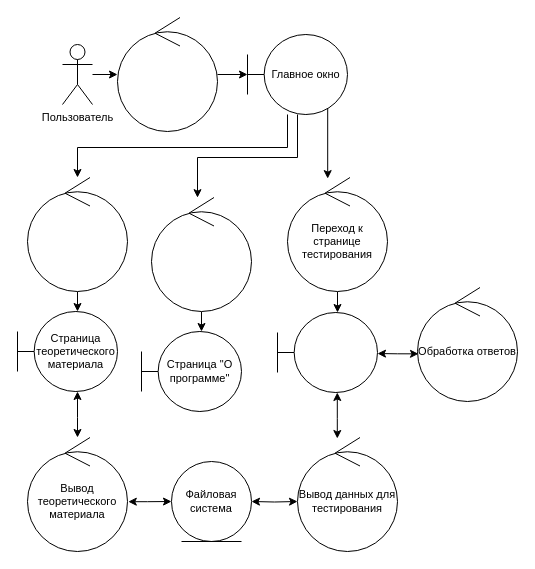
Some shapes in this 535 by 569 pixel diagram are drawn without their labels. Here are the shapes that lost their labels. From the top down, the centre of each, then its label:
the point at 167,74: Открытие программы
the point at 77,234: Переход к странице теоретического материала
the point at 201,254: Переход к станице "О программе"
the point at 327,352: Страница тестирования
